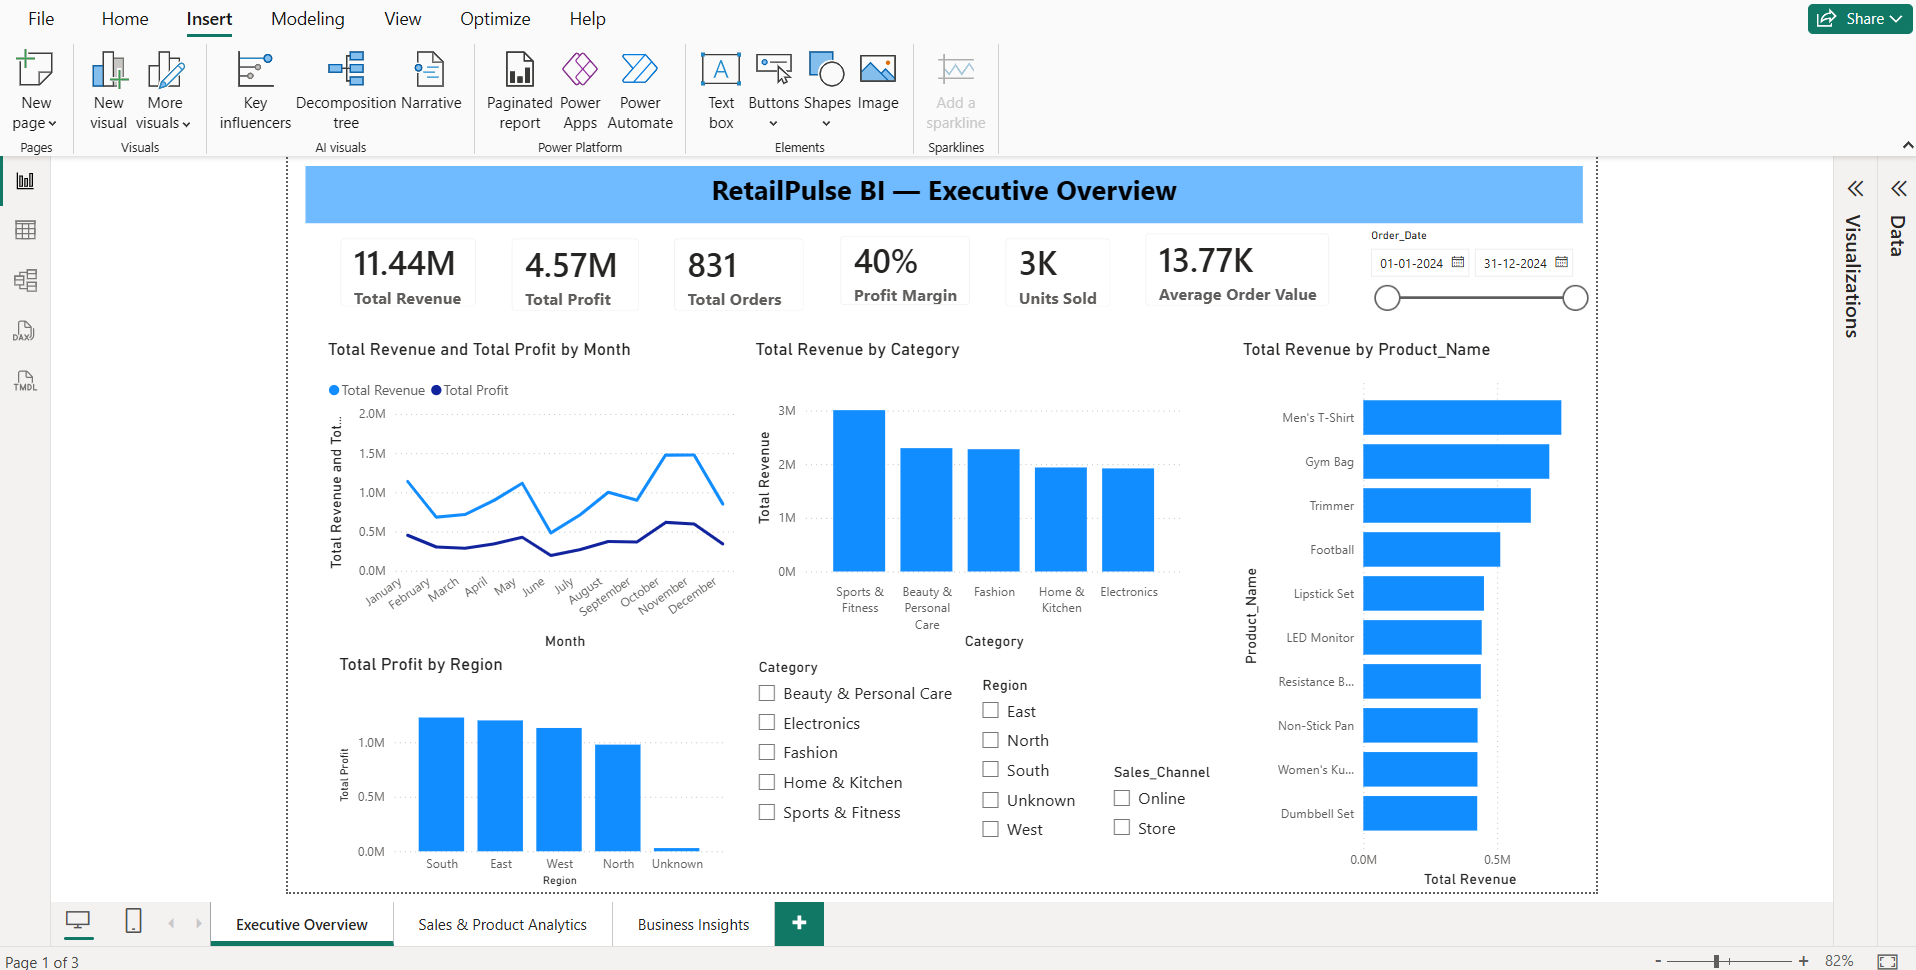

The dashboard page shown, as its layout file describes it:
{"tool":"powerbi","page":{"name":"Executive Overview","canvas":[1280,720],"ordinal":0},"visuals":[{"type":"cardVisual","fields":{"Data":["OrdersClean.Total Revenue"]},"box":[34.3,63.1,167.4,101.5],"z":0},{"type":"cardVisual","fields":{"Data":["OrdersClean.Total Profit"]},"box":[201.7,63.1,159.2,105.7],"z":1000},{"type":"cardVisual","fields":{"Data":["OrdersClean.Total Orders"]},"box":[360.9,63.1,161.9,105.7],"z":2000},{"type":"cardVisual","fields":{"Data":["OrdersClean.Profit Margin"]},"box":[522.8,61.7,161.9,102.9],"z":3000},{"type":"cardVisual","fields":{"Data":["OrdersClean.Units Sold"]},"box":[684.7,63.1,137.2,101.5],"z":4000},{"type":"cardVisual","fields":{"Data":["OrdersClean.Average Order Value"]},"box":[822,59,214.1,105.7],"z":5000},{"type":"lineChart","fields":{"Category":["OrdersClean.Year_Month.Variation.Date Hierarchy.Month"],"Y":["OrdersClean.Total Revenue","OrdersClean.Total Profit"]},"box":[34.3,178.4,407.5,308.7],"z":6000},{"type":"clusteredColumnChart","fields":{"Category":["OrdersClean.Category"],"Y":["OrdersClean.Total Revenue"]},"box":[452.8,178.4,428.1,308.7],"z":7000},{"type":"clusteredColumnChart","fields":{"Category":["OrdersClean.Region"],"Y":["OrdersClean.Total Profit"]},"box":[45.3,487.1,387,233.3],"z":8000},{"type":"clusteredBarChart","fields":{"Category":["OrdersClean.Product_Name"],"Y":["OrdersClean.Total Revenue"]},"box":[929,178.4,351.3,542],"z":9000},{"type":"slicer","fields":{"Values":["OrdersClean.Category"]},"box":[447.6,486.7,219.6,182.5],"z":10000},{"type":"slicer","fields":{"Values":["OrdersClean.Region"]},"box":[666.4,503.8,119.8,174.9],"z":11000},{"type":"slicer","fields":{"Values":["OrdersClean.Sales_Channel"]},"box":[794.8,589.4,150.4,89.3],"z":12000},{"type":"slicer","fields":{"Values":["OrdersClean.Order_Date"]},"box":[1046.7,66,233.6,91.7],"z":13000},{"type":"textbox","box":[17.1,9.8,1249.7,56.3],"z":14000}]}

Visuals, with their boxes on the page's 1280x720 design canvas (x1, y1, x2, y2). These are canvas units, not pixel positions in the 1916x970 screenshot, which may show the page scaled, cropped or inside an application window:
cardVisual - OrdersClean.Total Revenue: <region>34, 63, 202, 165</region>
cardVisual - OrdersClean.Total Profit: <region>202, 63, 361, 169</region>
cardVisual - OrdersClean.Total Orders: <region>361, 63, 523, 169</region>
cardVisual - OrdersClean.Profit Margin: <region>523, 62, 685, 165</region>
cardVisual - OrdersClean.Units Sold: <region>685, 63, 822, 165</region>
cardVisual - OrdersClean.Average Order Value: <region>822, 59, 1036, 165</region>
lineChart - OrdersClean.Year_Month.Variation.Date Hierarchy.Month x OrdersClean.Total Revenue: <region>34, 178, 442, 487</region>
clusteredColumnChart - OrdersClean.Category x OrdersClean.Total Revenue: <region>453, 178, 881, 487</region>
clusteredColumnChart - OrdersClean.Region x OrdersClean.Total Profit: <region>45, 487, 432, 720</region>
clusteredBarChart - OrdersClean.Product_Name x OrdersClean.Total Revenue: <region>929, 178, 1280, 720</region>
slicer - OrdersClean.Category: <region>448, 487, 667, 669</region>
slicer - OrdersClean.Region: <region>666, 504, 786, 679</region>
slicer - OrdersClean.Sales_Channel: <region>795, 589, 945, 679</region>
slicer - OrdersClean.Order_Date: <region>1047, 66, 1280, 158</region>
textbox: <region>17, 10, 1267, 66</region>
